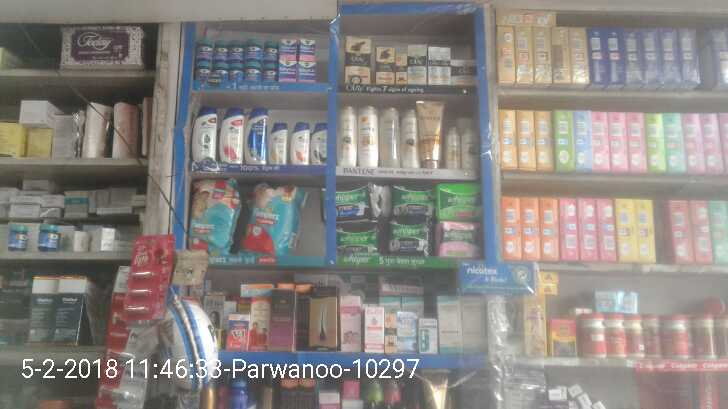vicks: (194, 29, 319, 82)
